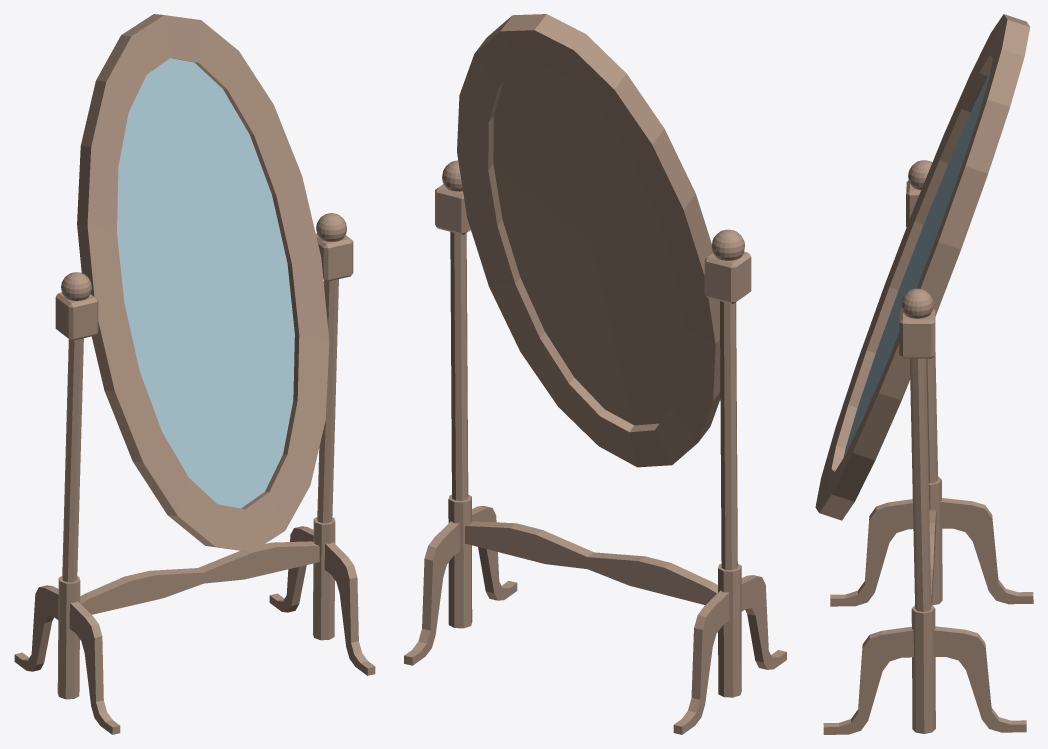
Rendered from Mirror_4.fbx.
3 renders of one model, left to right at view 1: azimuth 30°, elevation 25°; view 2: azimuth 150°, elevation 25°; view 3: azimuth 270°, elevation 25°, orthographic. The views are drawn at different scales.
Parts seen in each view (by area): view 1: Mirror_4; view 2: Mirror_4; view 3: Mirror_4.
Part boxes in pixels (<box>): Mirror_4: <box>14,14,375,734</box>; Mirror_4: <box>404,14,786,734</box>; Mirror_4: <box>815,14,1033,734</box>.
Bounding box in the file's own units: 97.27 × 62.41 × 206.
